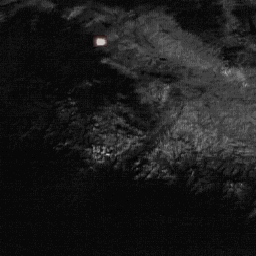Target: (94, 36, 108, 47)
